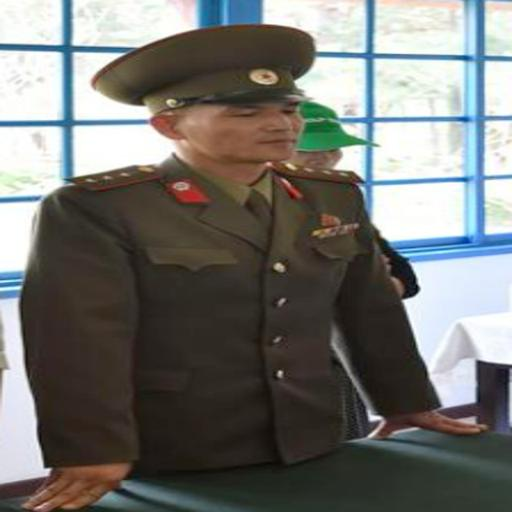north army: (55, 19, 480, 462)
